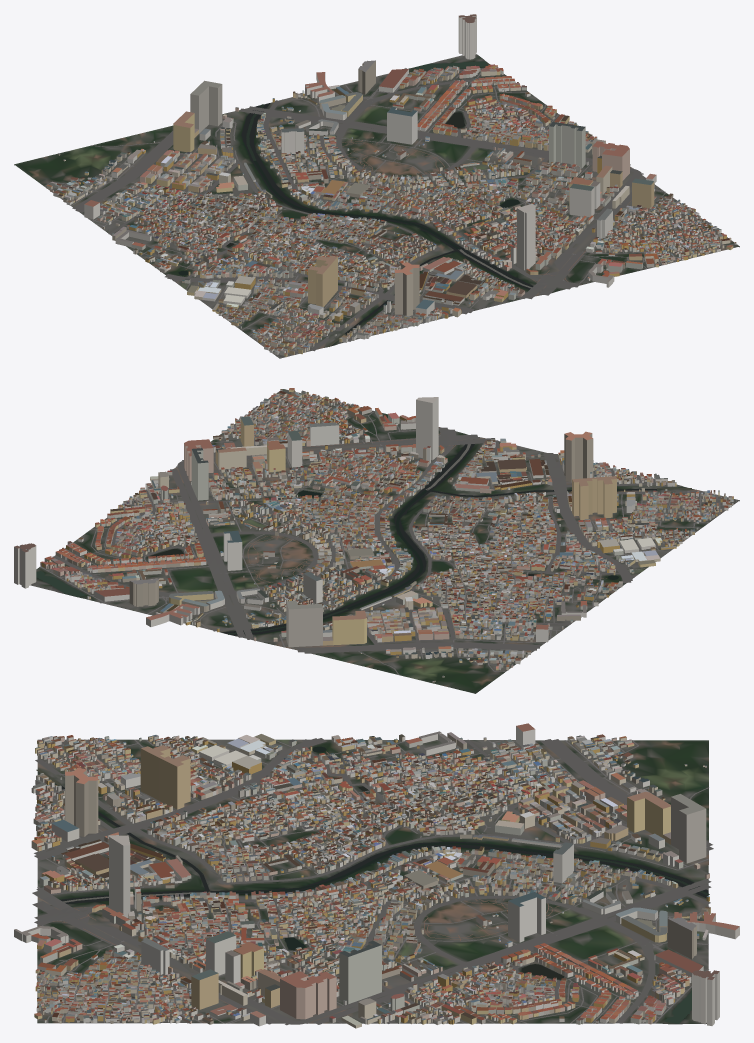
The picture shows the model from 3 angles, top to bottom: view 1: azimuth 30°, elevation 25°; view 2: azimuth 150°, elevation 25°; view 3: azimuth 270°, elevation 25°; orthographic projection. The views are drawn at different scales.
Parts seen in each view (by area): view 1: buildings, ground, roads, water; view 2: buildings, ground, roads, water; view 3: buildings, ground, roads, water.
Part boxes in pixels (x1,y1,x2,y2): buildings: [46, 14, 736, 357]; ground: [14, 54, 739, 358]; roads: [44, 68, 733, 357]; water: [178, 61, 541, 346]; buildings: [14, 388, 733, 682]; ground: [30, 389, 739, 693]; roads: [40, 391, 737, 674]; water: [36, 439, 691, 635]; buildings: [14, 723, 739, 1028]; ground: [37, 739, 708, 1024]; roads: [32, 738, 713, 1025]; water: [36, 746, 709, 1023].
Size of the model in its own units: 1440 by 174 by 1516.
